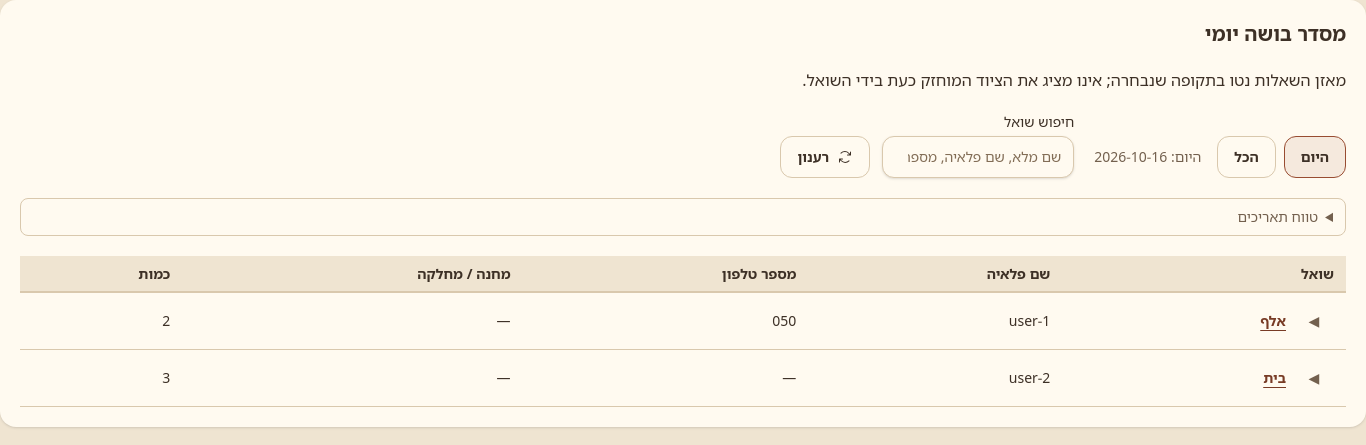
Test: period summary view › retries the same all-history bounds after a failed request
Check: the button "אלף" is shown, box x1=1260 y1=301 x2=1286 y2=341
Step 1. Click the button "הכל" → (1246, 157), box x1=1217 y1=136 x2=1276 y2=178
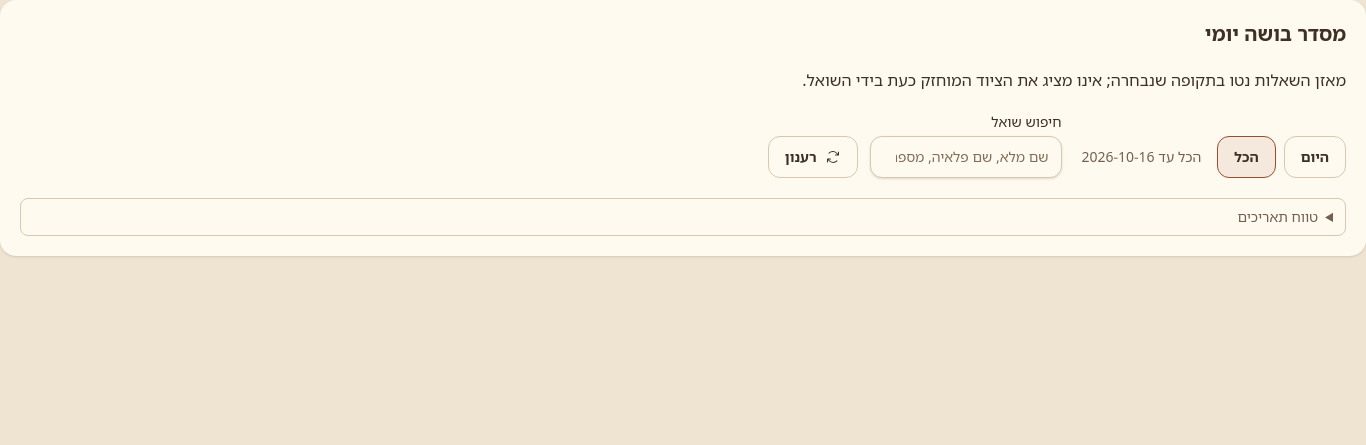
Check: the button "אלף" is gone
Step 2. Click the button "רענון" → (813, 157), box x1=768 y1=136 x2=858 y2=178
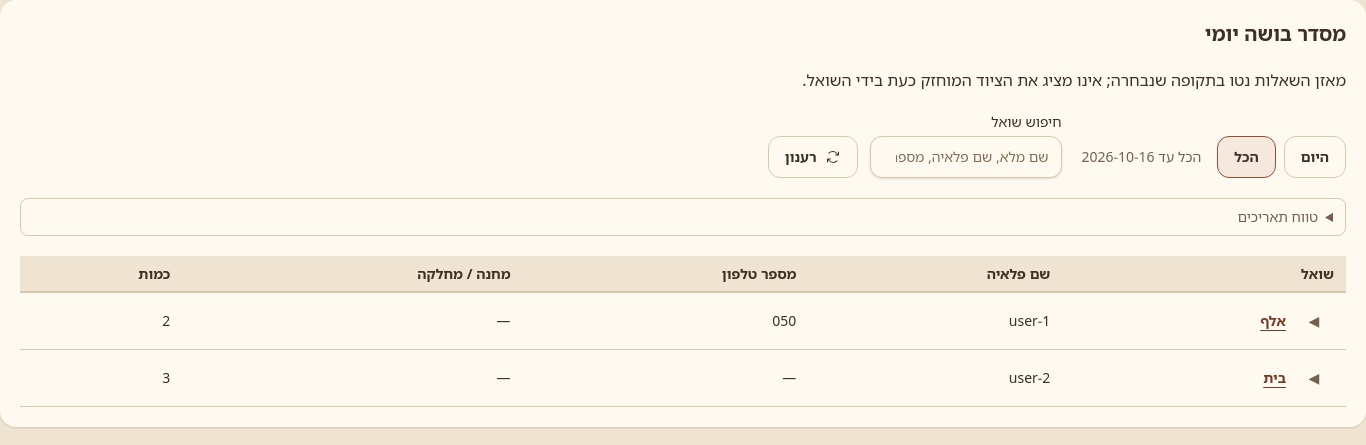
Check: the button "אלף" is shown, box x1=1260 y1=301 x2=1286 y2=341
